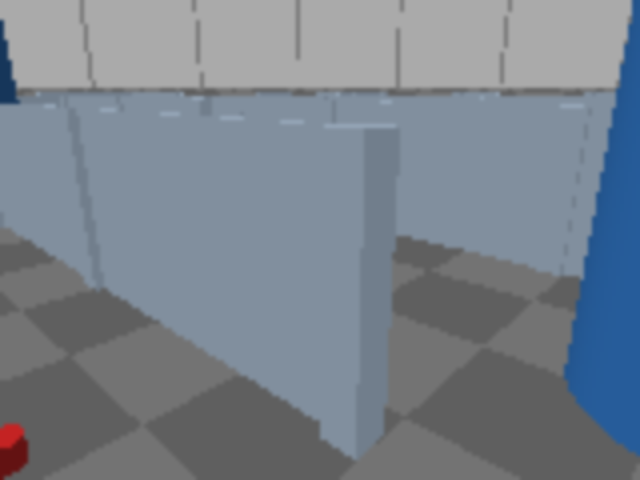person: (0, 0, 30, 181)
puck: (0, 427, 28, 476)
